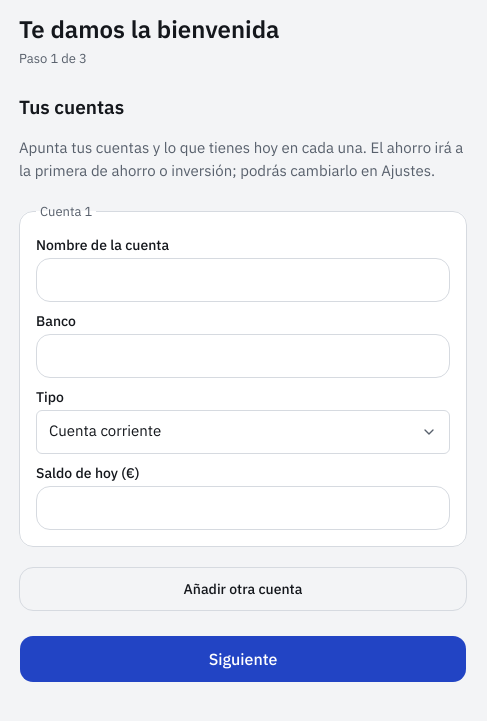
it: OnboardingWizard › si la acción lanza, muestra el error de guardado y rehabilita el botón
Type "BBVA" into the field labelled "Nombre de la cuenta" at {"x": 243, "y": 280}, box x1=36 y1=258 x2=450 y2=302
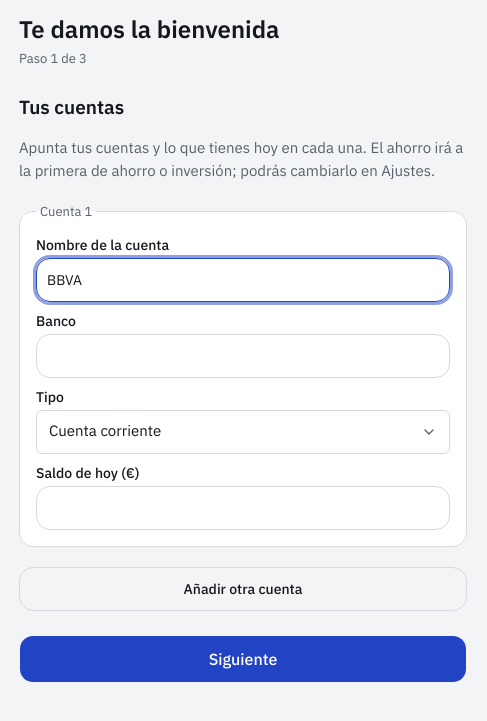
Click the button "Siguiente" at {"x": 243, "y": 658}, box x1=19 y1=634 x2=467 y2=682
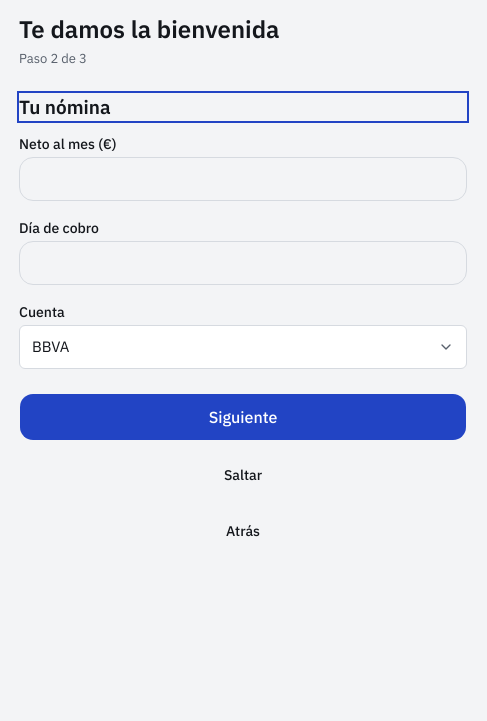
Click the button "Saltar" at {"x": 243, "y": 475}, box x1=19 y1=453 x2=467 y2=497
(page scrolled)
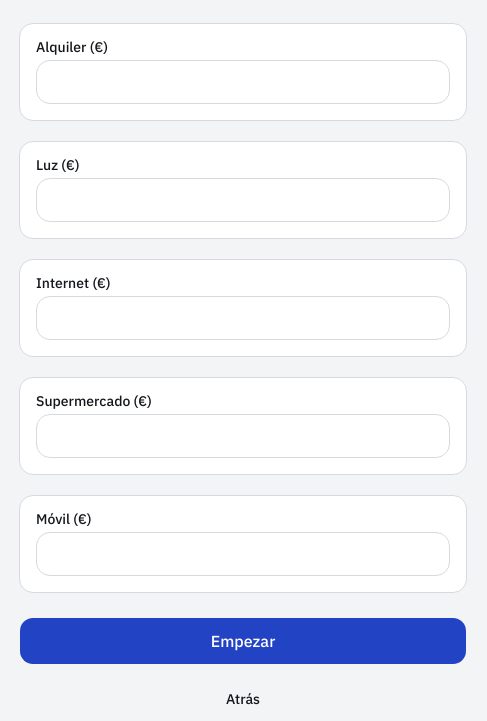
Click the button "Empezar" at {"x": 243, "y": 641}, box x1=19 y1=617 x2=467 y2=665
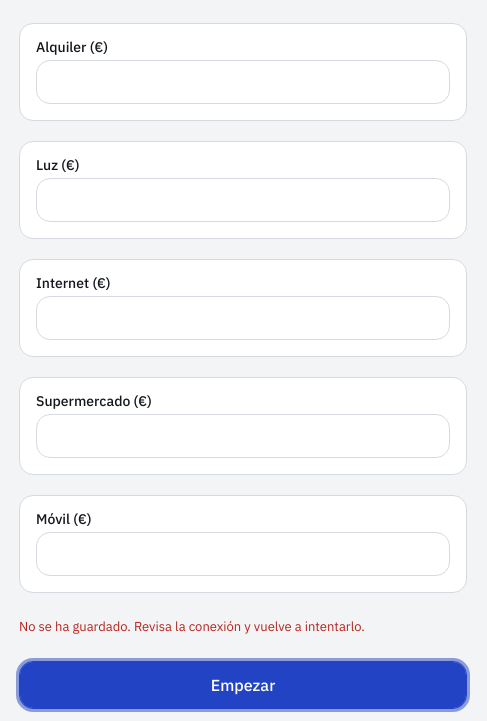
Check: the button "Empezar" is enabled, box x1=19 y1=660 x2=467 y2=708
Check: the message reads "No se ha guardado. Revisa la conexión y vuelve a intentarlo.", box x1=19 y1=618 x2=365 y2=635
